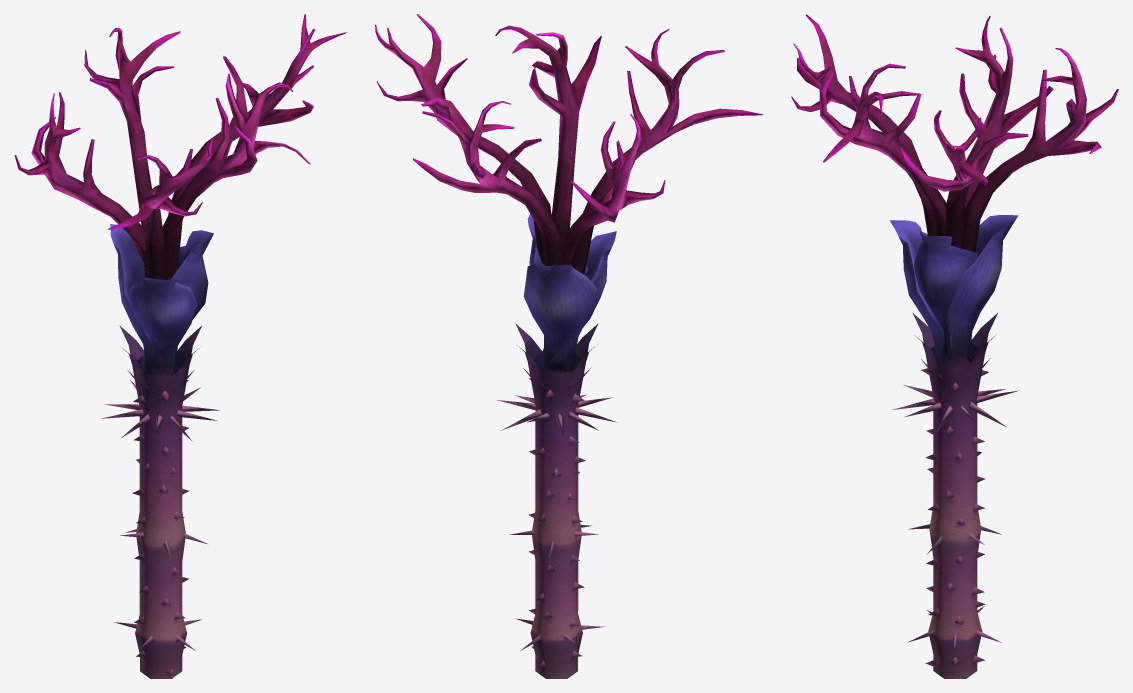
File: lnyop.fbx
3 views of the same model, side by side, from view 1: azimuth 30°, elevation 25°; view 2: azimuth 150°, elevation 25°; view 3: azimuth 270°, elevation 25° (orthographic). The views are drawn at different scales.
Visible parts, largest first — view 1: lnyop_Mesh_001; view 2: lnyop_Mesh_001; view 3: lnyop_Mesh_001.
Boxes of the visible parts, left/top/right/bottom form: lnyop_Mesh_001: left=14, top=14, right=346, bottom=678; lnyop_Mesh_001: left=375, top=14, right=762, bottom=678; lnyop_Mesh_001: left=791, top=14, right=1118, bottom=678.
Bounding box in the file's own units: 46.53 × 87.27 × 40.89.
